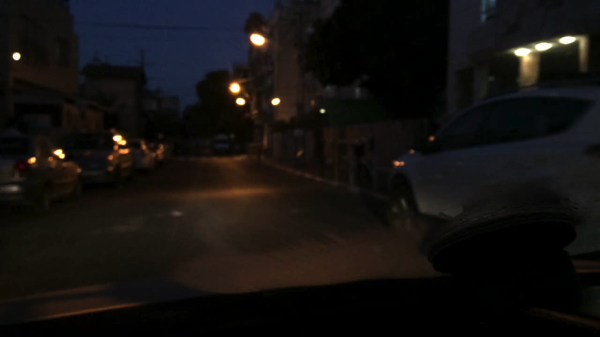car: (381, 79, 599, 260), (0, 128, 84, 210), (61, 128, 135, 187), (128, 138, 157, 171), (148, 142, 172, 162), (212, 138, 230, 154)
